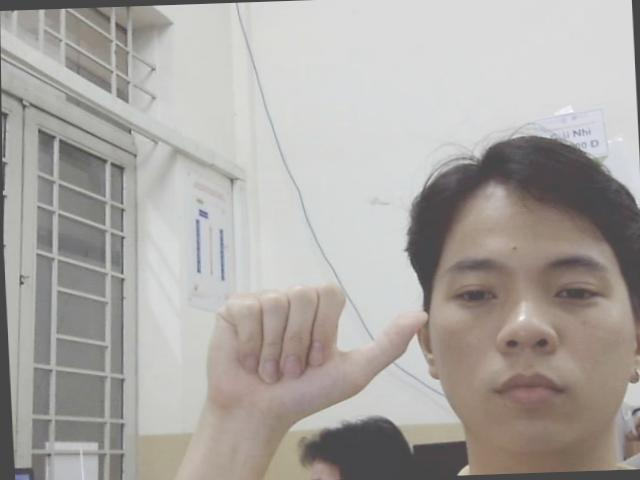A: (196, 278, 435, 418)
